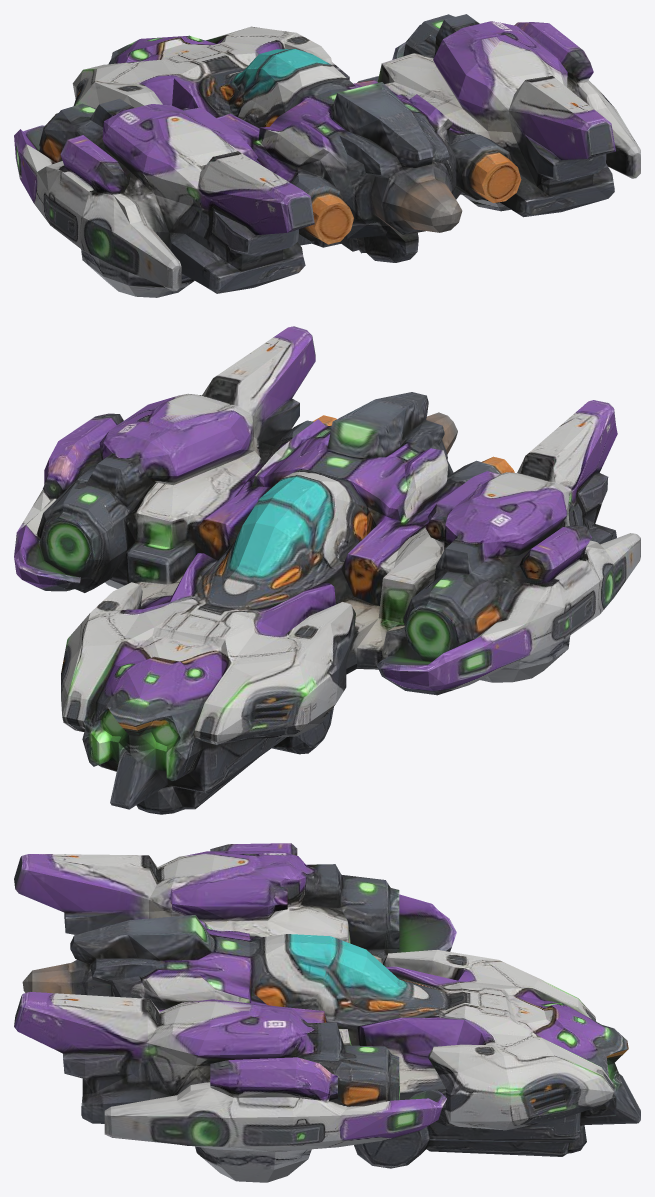
Rendered from vanguard.glb.
3 views of the same model, one above another, from view 1: azimuth 30°, elevation 25°; view 2: azimuth 150°, elevation 25°; view 3: azimuth 270°, elevation 25° (orthographic). The views are drawn at different scales.
Parts seen in each view (by area): view 1: tripo_node_2ee6acc4-9271-4866-87e9-dd0dfb1dc1e5; view 2: tripo_node_2ee6acc4-9271-4866-87e9-dd0dfb1dc1e5; view 3: tripo_node_2ee6acc4-9271-4866-87e9-dd0dfb1dc1e5.
Boxes of the visible parts, x1=… form: tripo_node_2ee6acc4-9271-4866-87e9-dd0dfb1dc1e5: x1=14, y1=14, x2=640, y2=297; tripo_node_2ee6acc4-9271-4866-87e9-dd0dfb1dc1e5: x1=14, y1=326, x2=640, y2=814; tripo_node_2ee6acc4-9271-4866-87e9-dd0dfb1dc1e5: x1=14, y1=843, x2=640, y2=1182.
Size of the model in its own units: 1.69 by 0.7328 by 1.88.
1 material, 1 textured.
